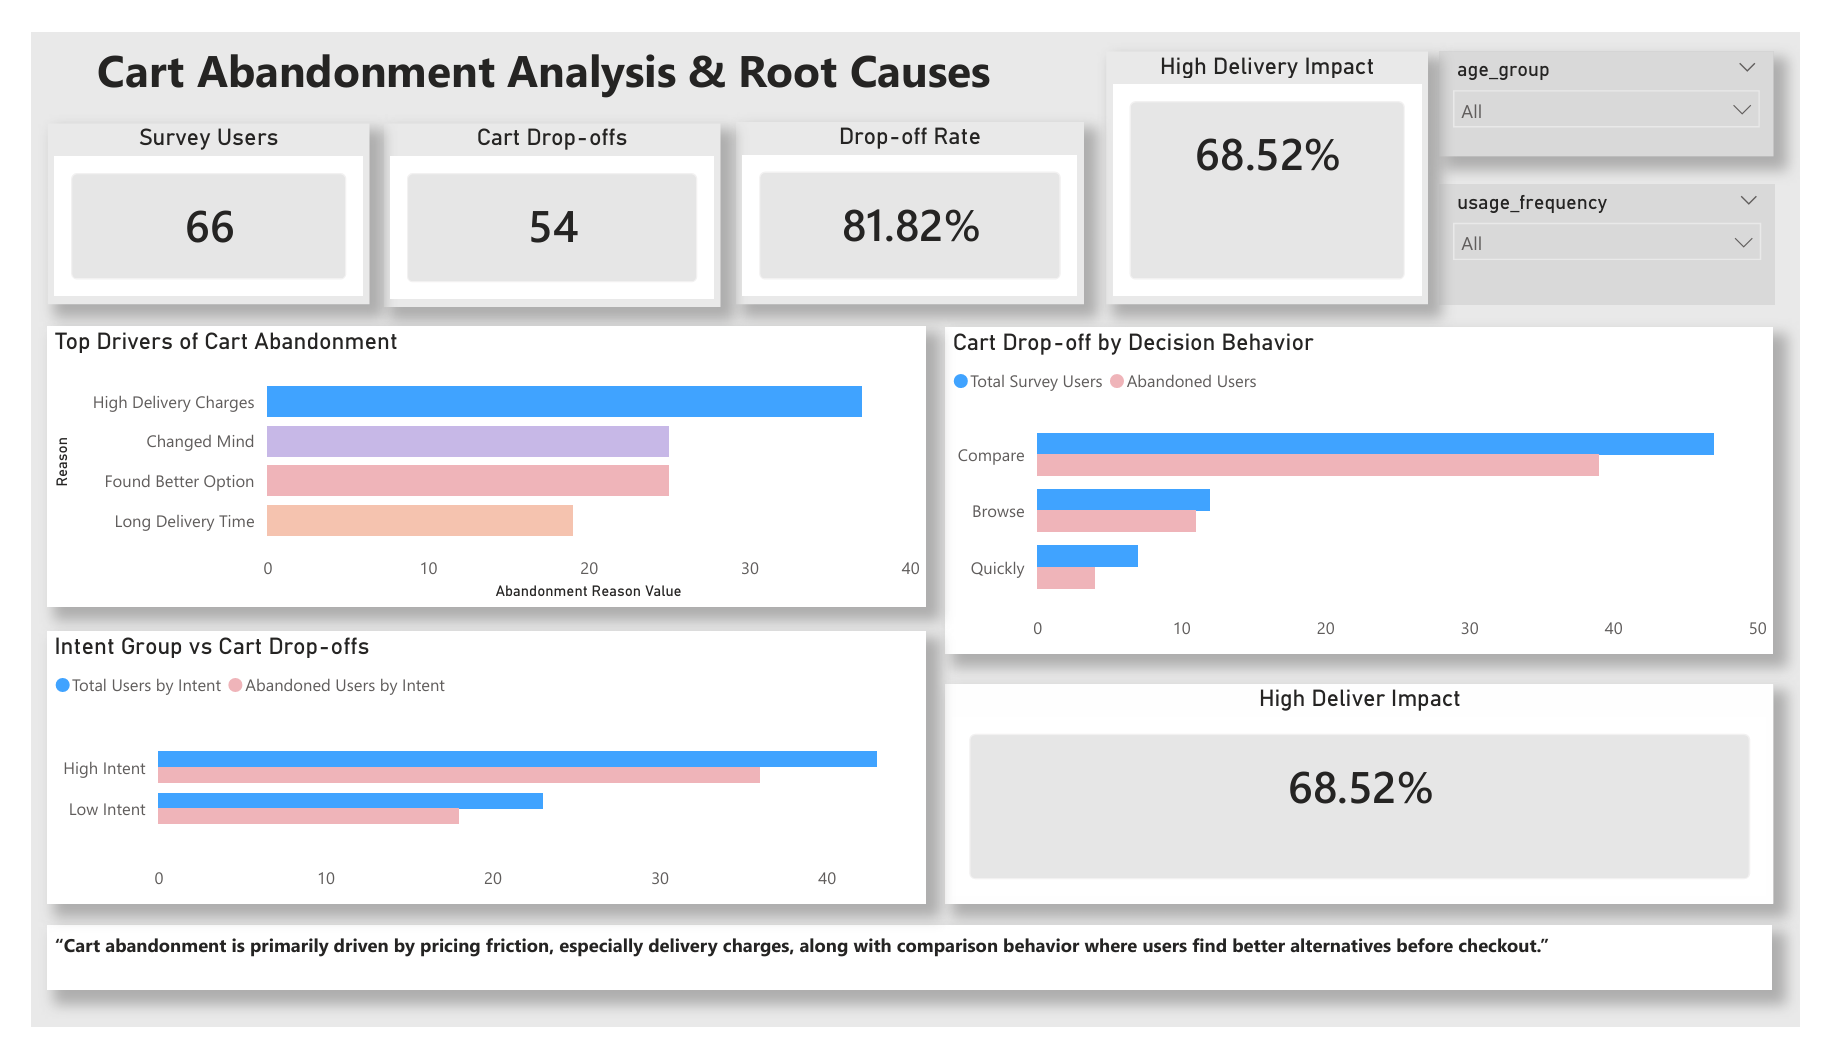

The dashboard page shown, as its layout file describes it:
{"tool":"powerbi","page":{"name":"Cart Abandonment & Drop-off Analysis","canvas":[1280,720],"ordinal":1},"visuals":[{"type":"cardVisual","title":"Survey Users","fields":{"Data":["KPI_Measures.Total Survey Users"]},"box":[11.9,65.7,232.8,131.3],"z":0},{"type":"cardVisual","title":"Cart Drop-offs","fields":{"Data":["KPI_Measures.Abandoned Users"]},"box":[255.2,65.7,243.3,132.8],"z":1},{"type":"cardVisual","title":"Drop-off Rate","fields":{"Data":["KPI_Measures.Cart Abandonment Rate"]},"box":[510.3,65.1,252.1,131.5],"z":2},{"type":"cardVisual","title":"High Delivery Impact","fields":{"Data":["KPI_Measures.High Delivery Impact %"]},"box":[778.2,14.5,232.8,182.2],"z":3},{"type":"clusteredBarChart","title":"Cart Drop-off by Decision Behavior","fields":{"Category":["Survey_Data.decision_style"],"Y":["KPI_Measures.Total Survey Users","KPI_Measures.Abandoned Users"]},"box":[662.3,213.5,598.4,236.5],"z":5},{"type":"cardVisual","title":"High Deliver Impact","fields":{"Data":["KPI_Measures.High Delivery Impact %"]},"box":[662.3,471.7,598.4,159.3],"z":8},{"type":"textbox","box":[12.1,646.7,1247.5,47.1],"z":9},{"type":"textbox","box":[33.8,0,1246.3,139.9],"z":10},{"type":"clusteredBarChart","title":"Top Drivers of Cart Abandonment","fields":{"Category":["Abandonment Reason Table.Reason"],"Y":["KPI_Measures.Abandonment Reason Value"]},"box":[11.9,213.4,635.8,203],"z":11},{"type":"clusteredBarChart","title":"Intent Group vs Cart Drop-offs","fields":{"Category":["Survey_Data.intent_group"],"Y":["KPI_Measures.Total Users by Intent","KPI_Measures.Abandoned Users by Intent"]},"box":[12.1,434.3,635.8,196.6],"z":12},{"type":"slicer","fields":{"Values":["Survey_Data.age_group"]},"box":[1019.4,14.5,241.3,76],"z":13},{"type":"slicer","fields":{"Values":["Survey_Data.usage_frequency"]},"box":[1019.4,109.8,242.5,86.9],"z":14}]}

Visuals, with their boxes in screenshot pixels (x1, y1, x2, y2), scaled from the page's 1280x720 canvas onto the 1830x1053 screenshot:
"Survey Users" cardVisual: left=17, top=96, right=350, bottom=288
"Cart Drop-offs" cardVisual: left=365, top=96, right=713, bottom=290
"Drop-off Rate" cardVisual: left=730, top=95, right=1090, bottom=288
"High Delivery Impact" cardVisual: left=1113, top=21, right=1445, bottom=288
"Cart Drop-off by Decision Behavior" clusteredBarChart: left=947, top=312, right=1802, bottom=658
"High Deliver Impact" cardVisual: left=947, top=690, right=1802, bottom=923
textbox: left=17, top=946, right=1801, bottom=1015
textbox: left=48, top=0, right=1829, bottom=205
"Top Drivers of Cart Abandonment" clusteredBarChart: left=17, top=312, right=926, bottom=609
"Intent Group vs Cart Drop-offs" clusteredBarChart: left=17, top=635, right=926, bottom=923
slicer - Survey_Data.age_group: left=1457, top=21, right=1802, bottom=132
slicer - Survey_Data.usage_frequency: left=1457, top=161, right=1804, bottom=288
